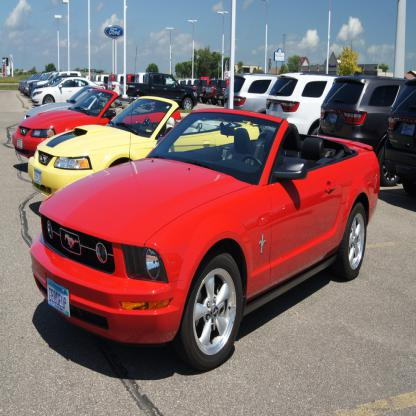Car: (10, 71, 416, 367)
